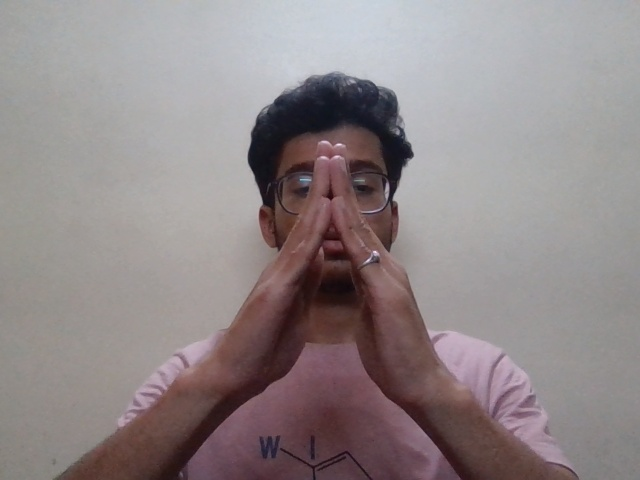home: (218, 139, 480, 403)
